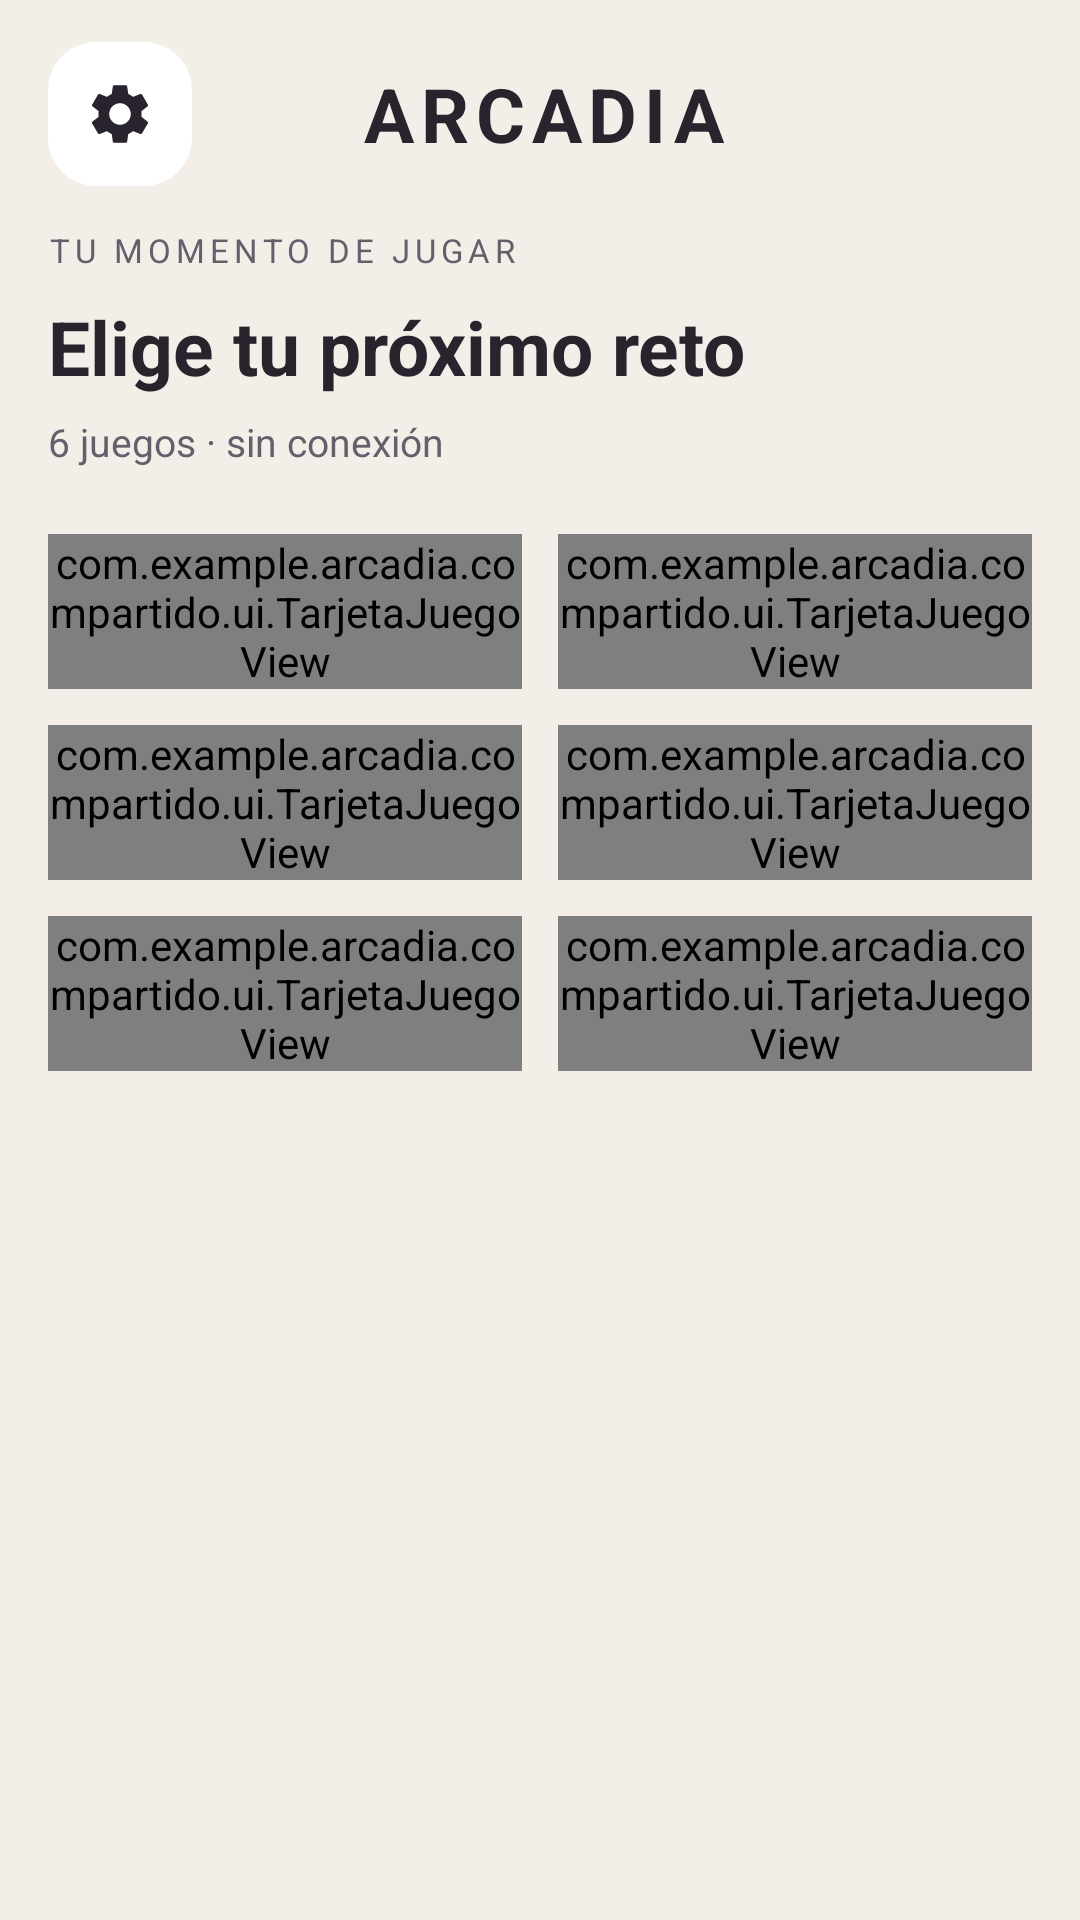

Screen size 1080x1920. Icon name, then its box in pixels as (x1, y1, x2, y2):
Ajustes: (92, 85, 148, 143)
